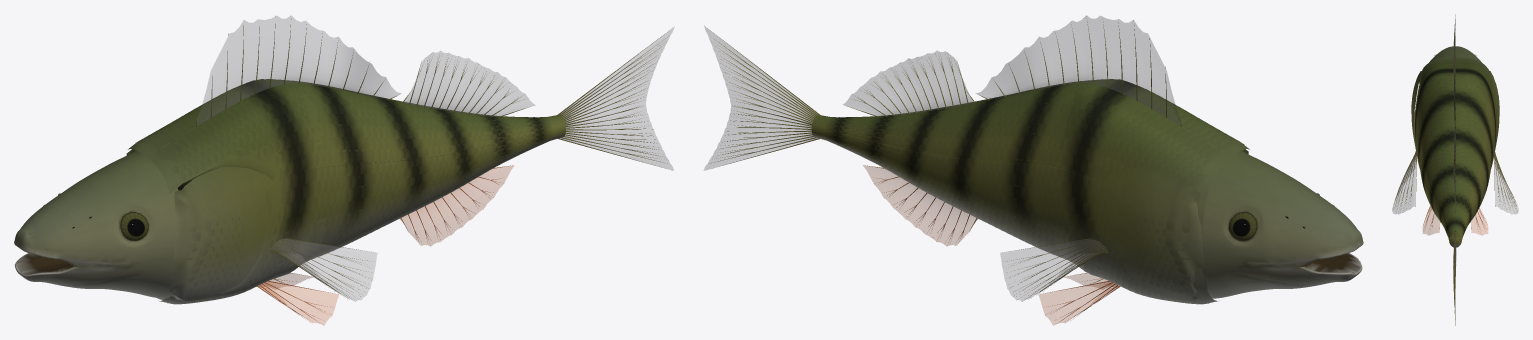
The model's file is fish-packet.glb.
3 views of the same model, side by side, from view 1: azimuth 30°, elevation 25°; view 2: azimuth 150°, elevation 25°; view 3: azimuth 270°, elevation 25° (orthographic). The views are drawn at different scales.
Parts seen in each view (by area): view 1: fish-body, gill-cover; view 2: fish-body; view 3: fish-body, gill-cover.
Boxes of the visible parts, box(x1,y1,x2,y2) form: fish-body: box(14, 15, 673, 325); gill-cover: box(170, 166, 272, 301); fish-body: box(704, 15, 1363, 325); fish-body: box(1392, 14, 1518, 325); gill-cover: box(1411, 71, 1422, 149).
Size of the model in its own units: 0.2556 by 0.1124 by 0.064.
